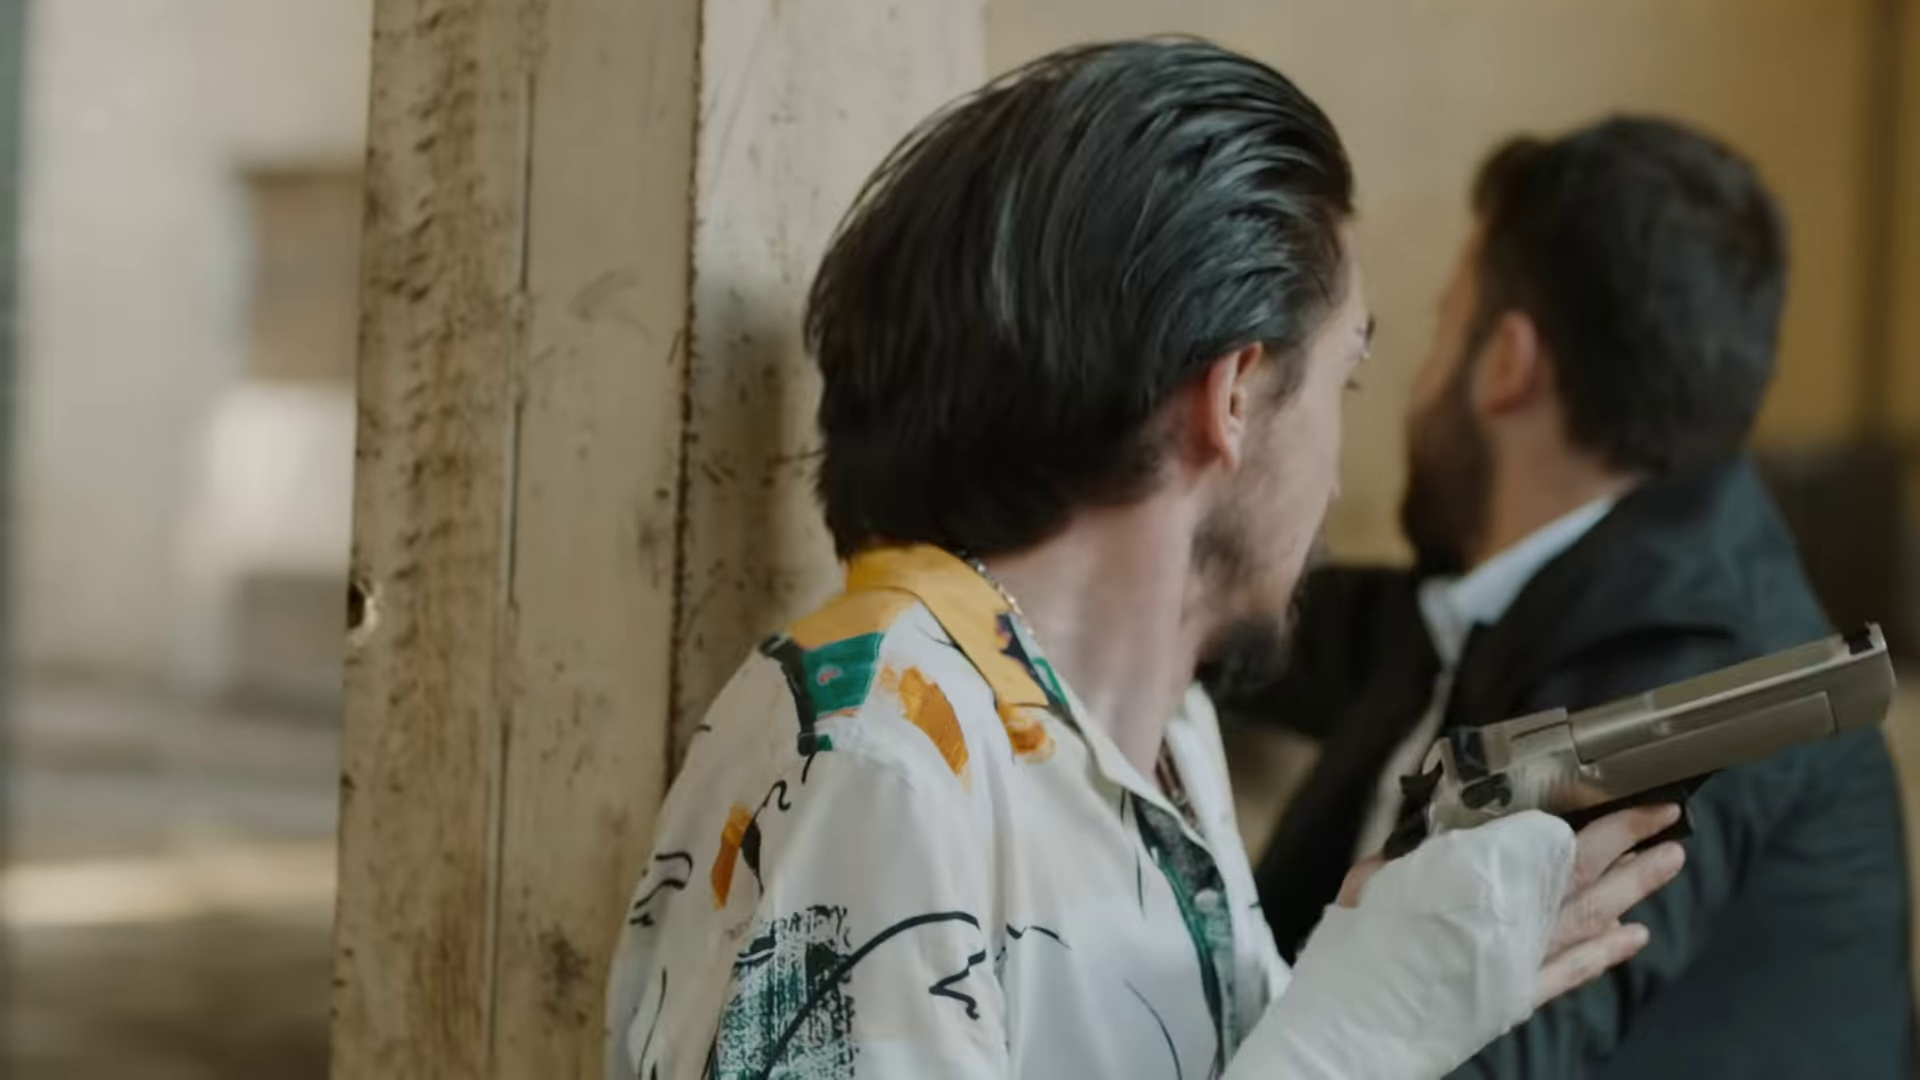gun: (1371, 616, 1900, 918)
p_w_gun: (587, 8, 1907, 1077)
p_wo_gun_not_carrying_normal_pose: (1320, 105, 1909, 1080)
